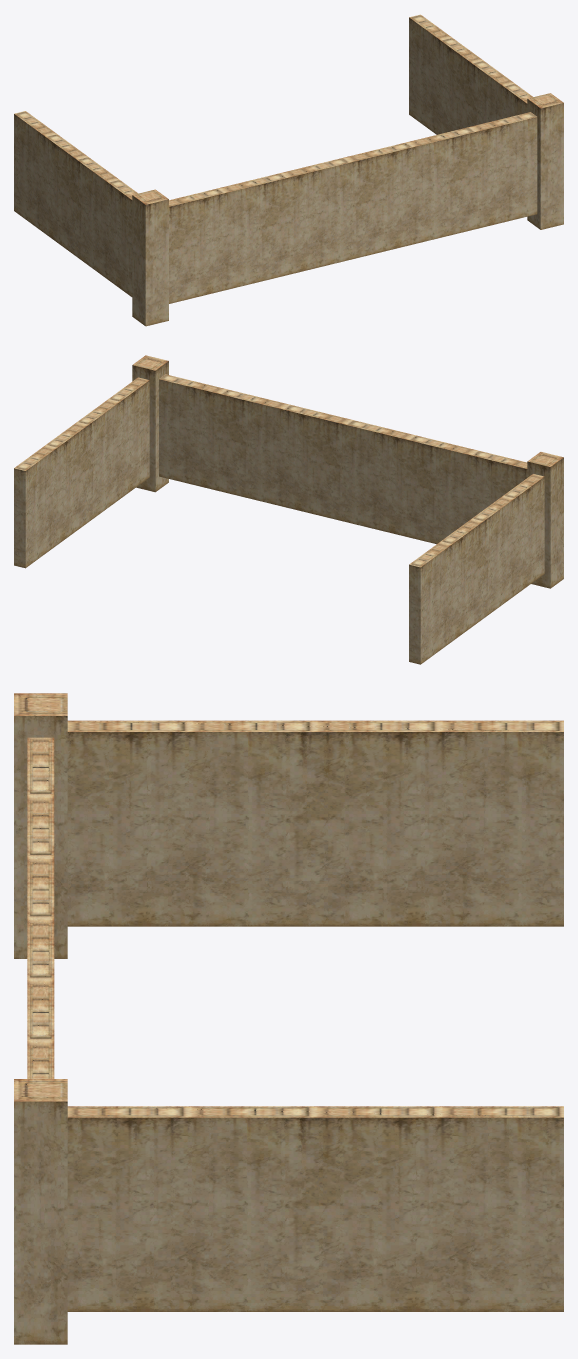
The model's file is poi_tato_corral_pen_16x8_s01_l0.fbx.
The picture shows the model from 3 angles, top to bottom: view 1: azimuth 30°, elevation 25°; view 2: azimuth 150°, elevation 25°; view 3: azimuth 270°, elevation 25°; orthographic projection. The views are drawn at different scales.
Parts seen in each view (by area): view 1: mesh_node; view 2: mesh_node; view 3: mesh_node.
Part boxes in pixels (x1=…): mesh_node: x1=14, y1=14, x2=563, y2=326; mesh_node: x1=14, y1=355, x2=563, y2=664; mesh_node: x1=14, y1=693, x2=563, y2=1344.
Bounding box in the file's own units: 18 × 5 × 10.25.
